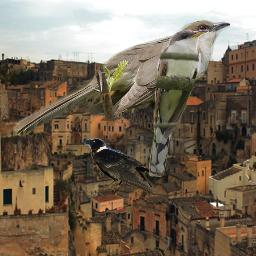Crow: (84, 137, 157, 195)
Cuckoo: (12, 19, 230, 136), (149, 29, 209, 177)
